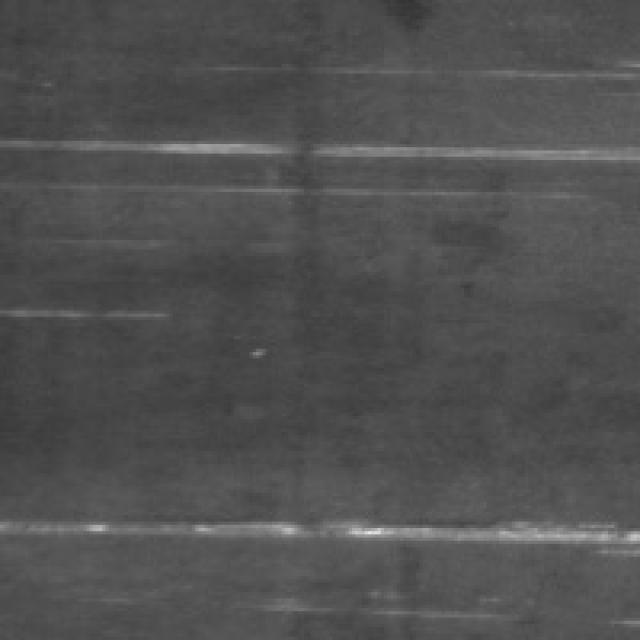scratches: (80, 502, 634, 560), (0, 115, 624, 163)
